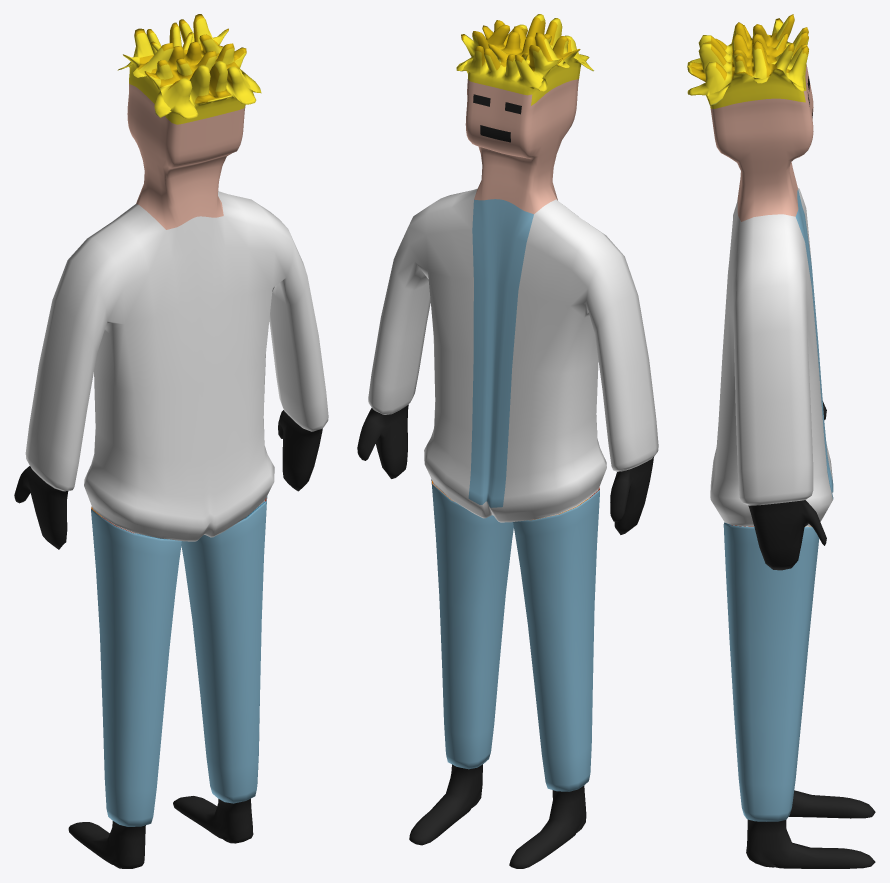
File: cientifico.fbx
3 views of the same model, side by side, from view 1: azimuth 30°, elevation 25°; view 2: azimuth 150°, elevation 25°; view 3: azimuth 270°, elevation 25° (orthographic). The views are drawn at different scales.
Visible parts, largest first — view 1: Cube; view 2: Cube; view 3: Cube.
Boxes of the visible parts, x1=… form: Cube: x1=14, y1=14, x2=328, y2=868; Cube: x1=357, y1=14, x2=658, y2=868; Cube: x1=687, y1=14, x2=875, y2=868.
Bounding box in the file's own units: 43.75 × 123 × 25.97.
1 material, 1 textured.
